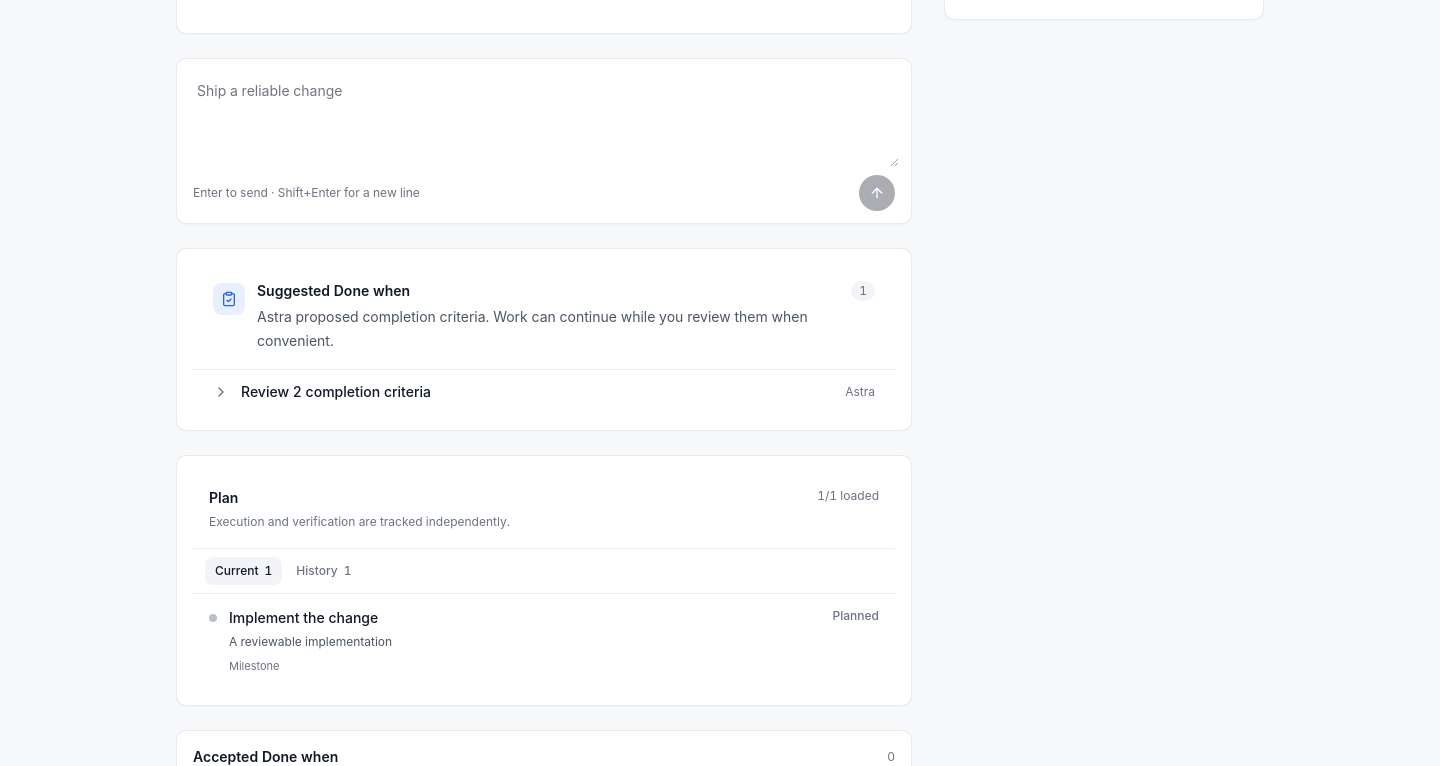
Test: accepts the exact observed proposal and replaces the bounded snapshot
(page scrolled)
Click the button "Review 2 completion criteria Astra": (267, 392) [193,370,895,414]
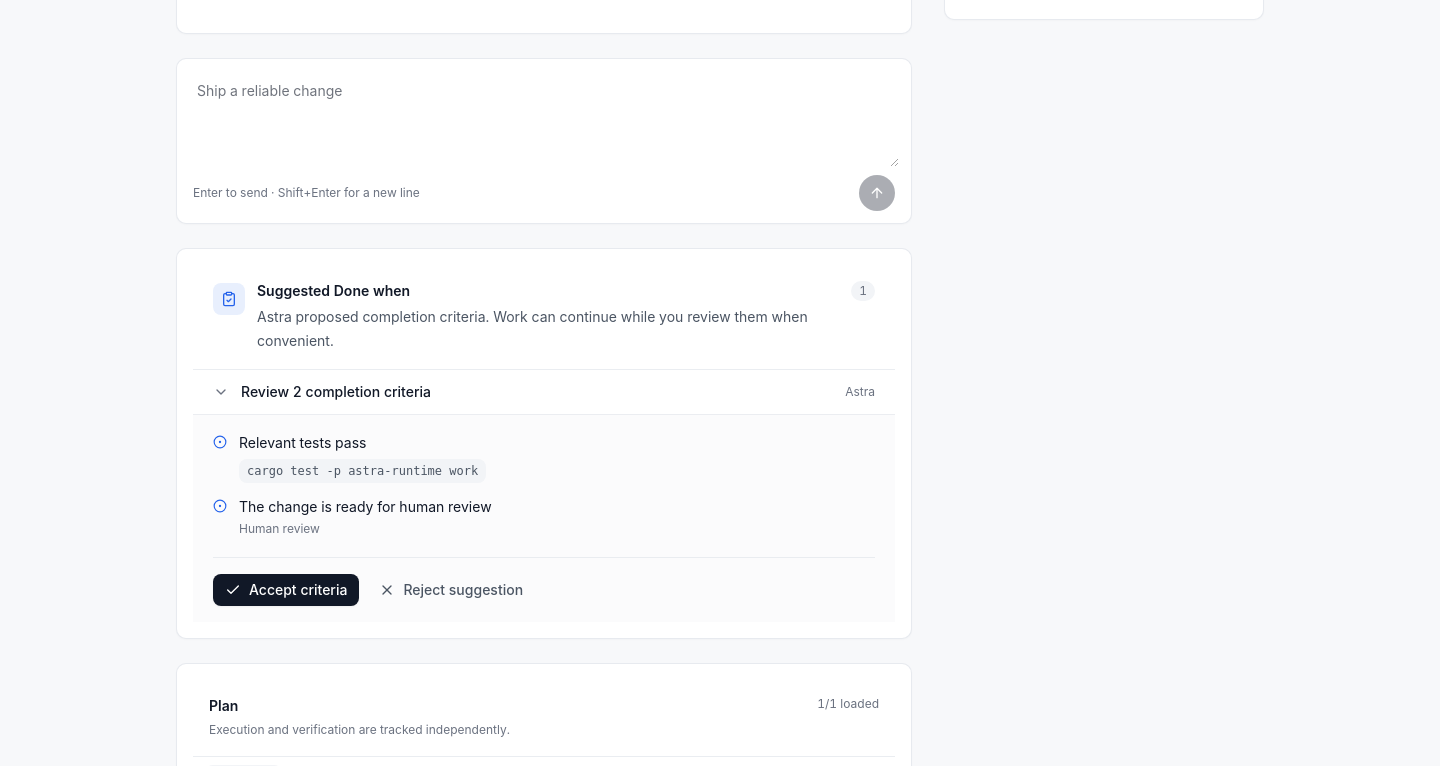
Click the button "Accept criteria": (286, 590) [213,574,359,606]
(page scrolled)
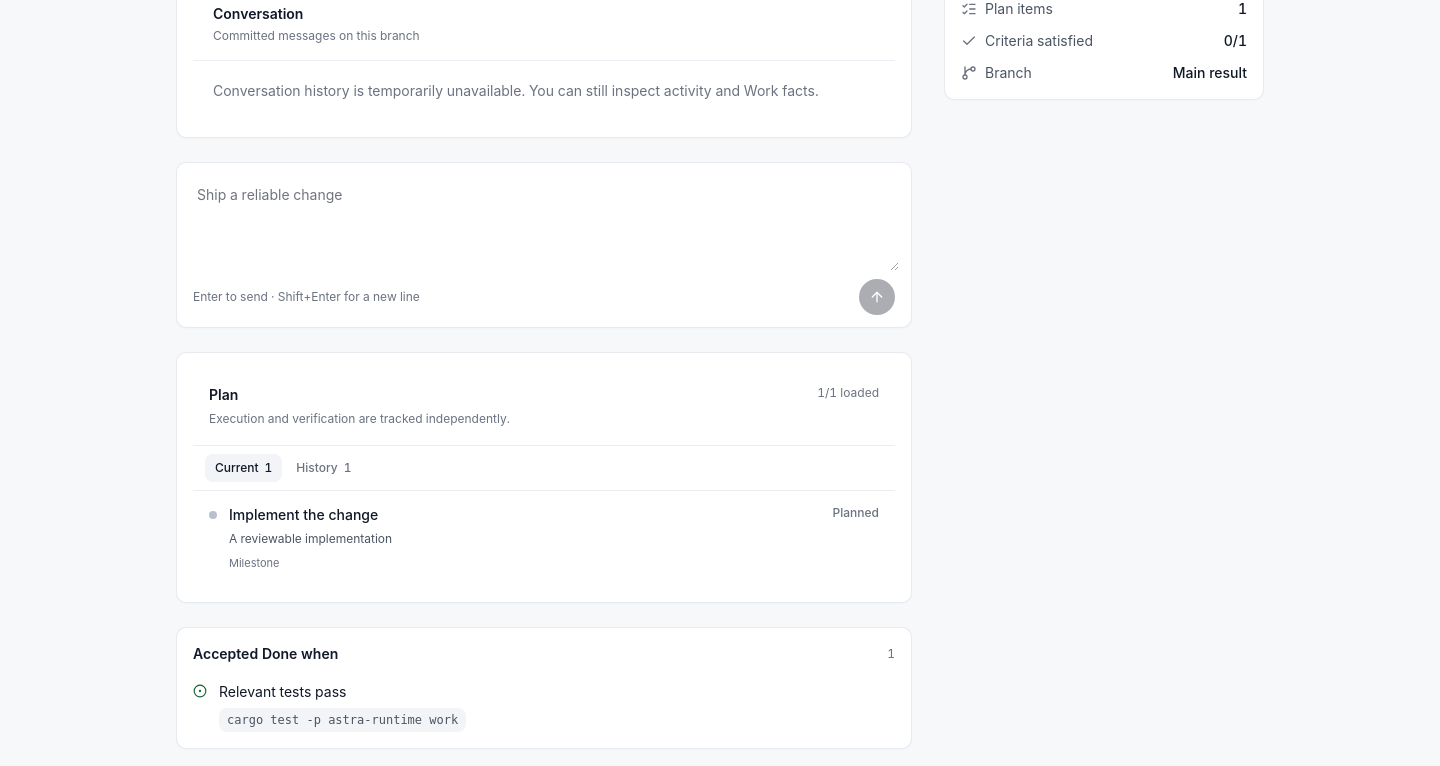
Expected: the text "Relevant tests pass" is shown, [219,682,346,700]
Expected: the heading "Suggested Done when" is gone
